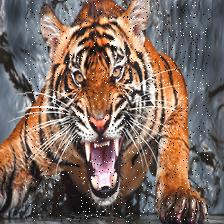tiger: (26, 2, 211, 224)
